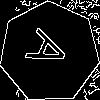A: (24, 27, 79, 77)
